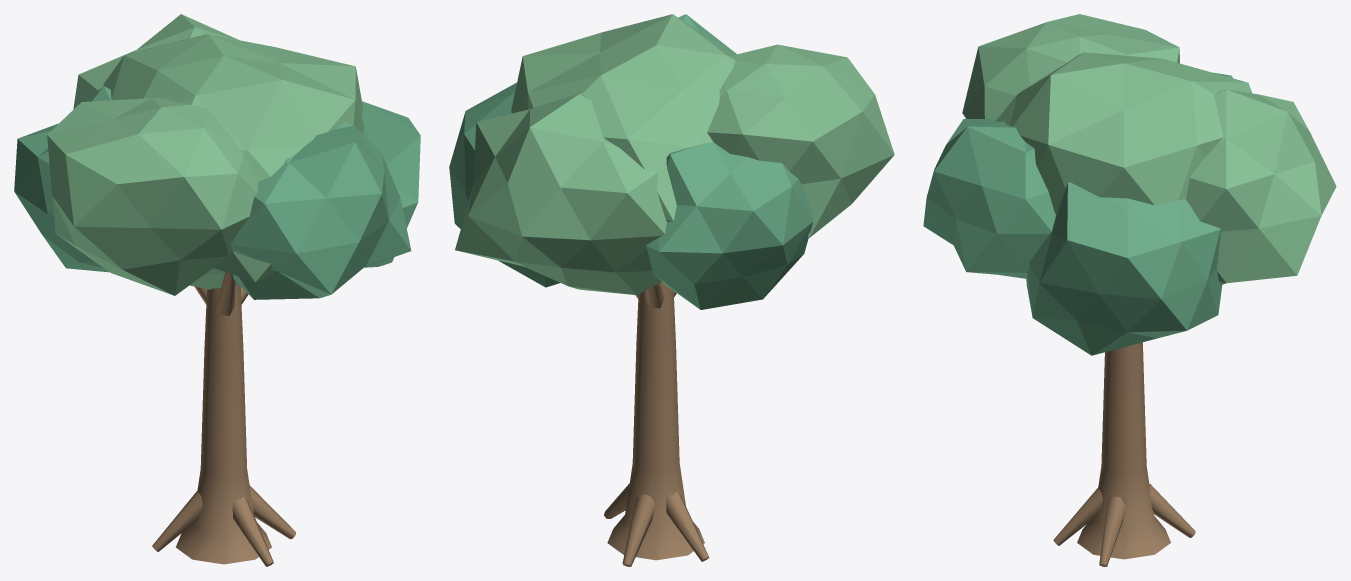
The model's file is tree_broad_2.fbx.
3 renders of one model, left to right at view 1: azimuth 30°, elevation 25°; view 2: azimuth 150°, elevation 25°; view 3: azimuth 270°, elevation 25°, orthographic. The views are drawn at different scales.
Visible parts, largest first — view 1: tree_broad_2; view 2: tree_broad_2; view 3: tree_broad_2.
Boxes of the visible parts, x1,y1,x2,y2 form: tree_broad_2: (14, 14, 420, 566); tree_broad_2: (449, 14, 894, 566); tree_broad_2: (923, 14, 1336, 566).
Bounding box in the file's own units: 4.64 × 5.73 × 4.49.
